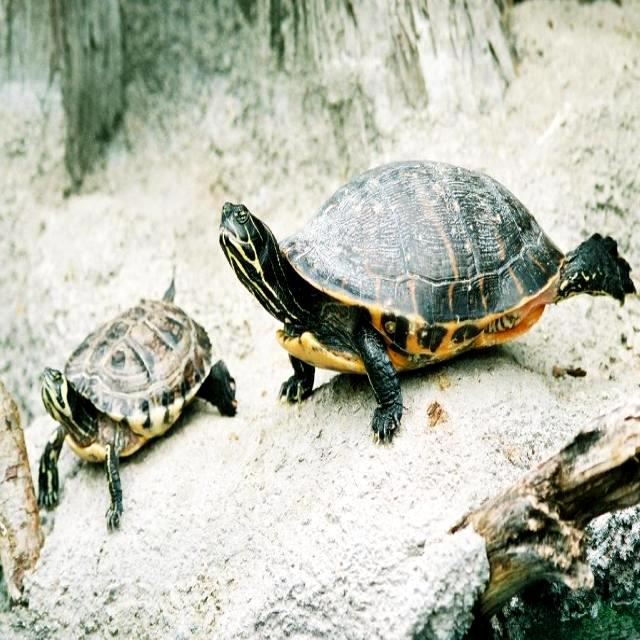Sea turtle: (217, 154, 636, 443), (38, 274, 239, 540)
